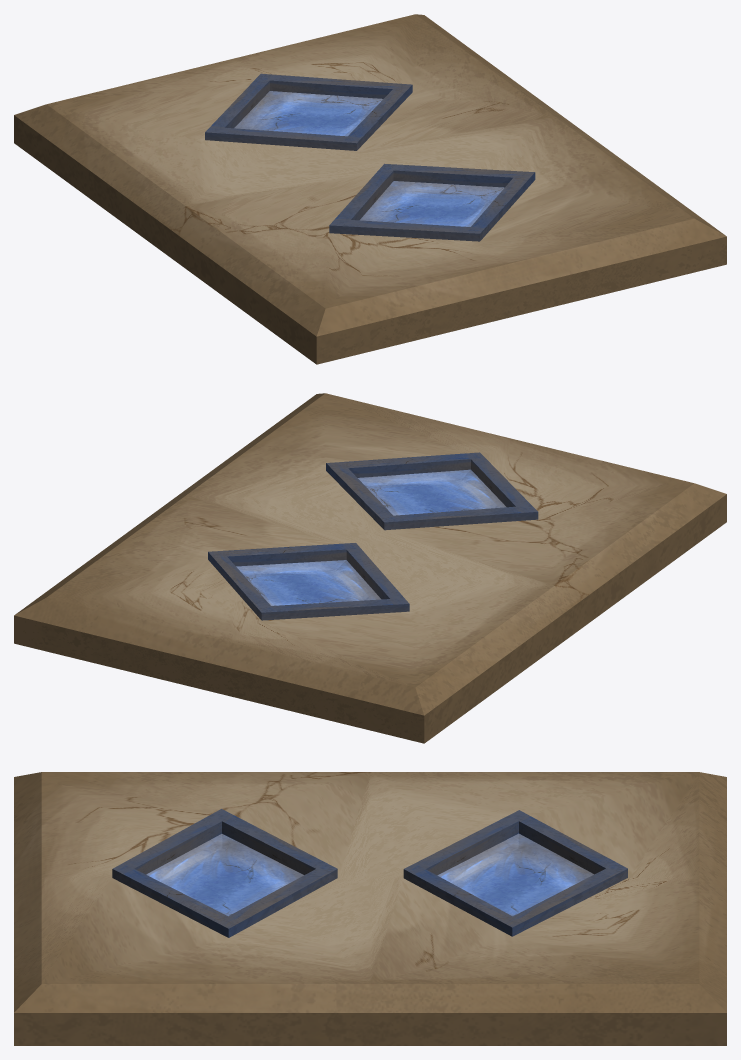
File: PressurePlateHold.fbx
3 renders of one model, top to bottom at view 1: azimuth 30°, elevation 25°; view 2: azimuth 150°, elevation 25°; view 3: azimuth 270°, elevation 25°, orthographic. The views are drawn at different scales.
Visible parts, largest first — view 1: Mesh_PressurePlate; view 2: Mesh_PressurePlate; view 3: Mesh_PressurePlate.
Boxes of the visible parts, bbox=[...] form: Mesh_PressurePlate: bbox=[14, 14, 726, 364]; Mesh_PressurePlate: bbox=[14, 393, 726, 743]; Mesh_PressurePlate: bbox=[14, 772, 726, 1045].
Bounding box in the file's own units: 633 × 74.05 × 808.
1 material, 1 textured.
